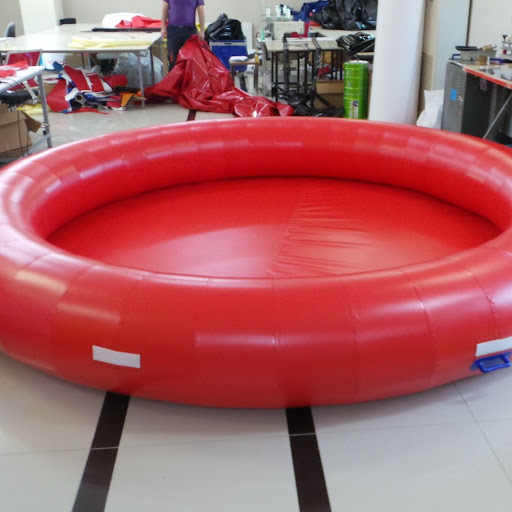su birakma alani: (2, 113, 512, 409)
